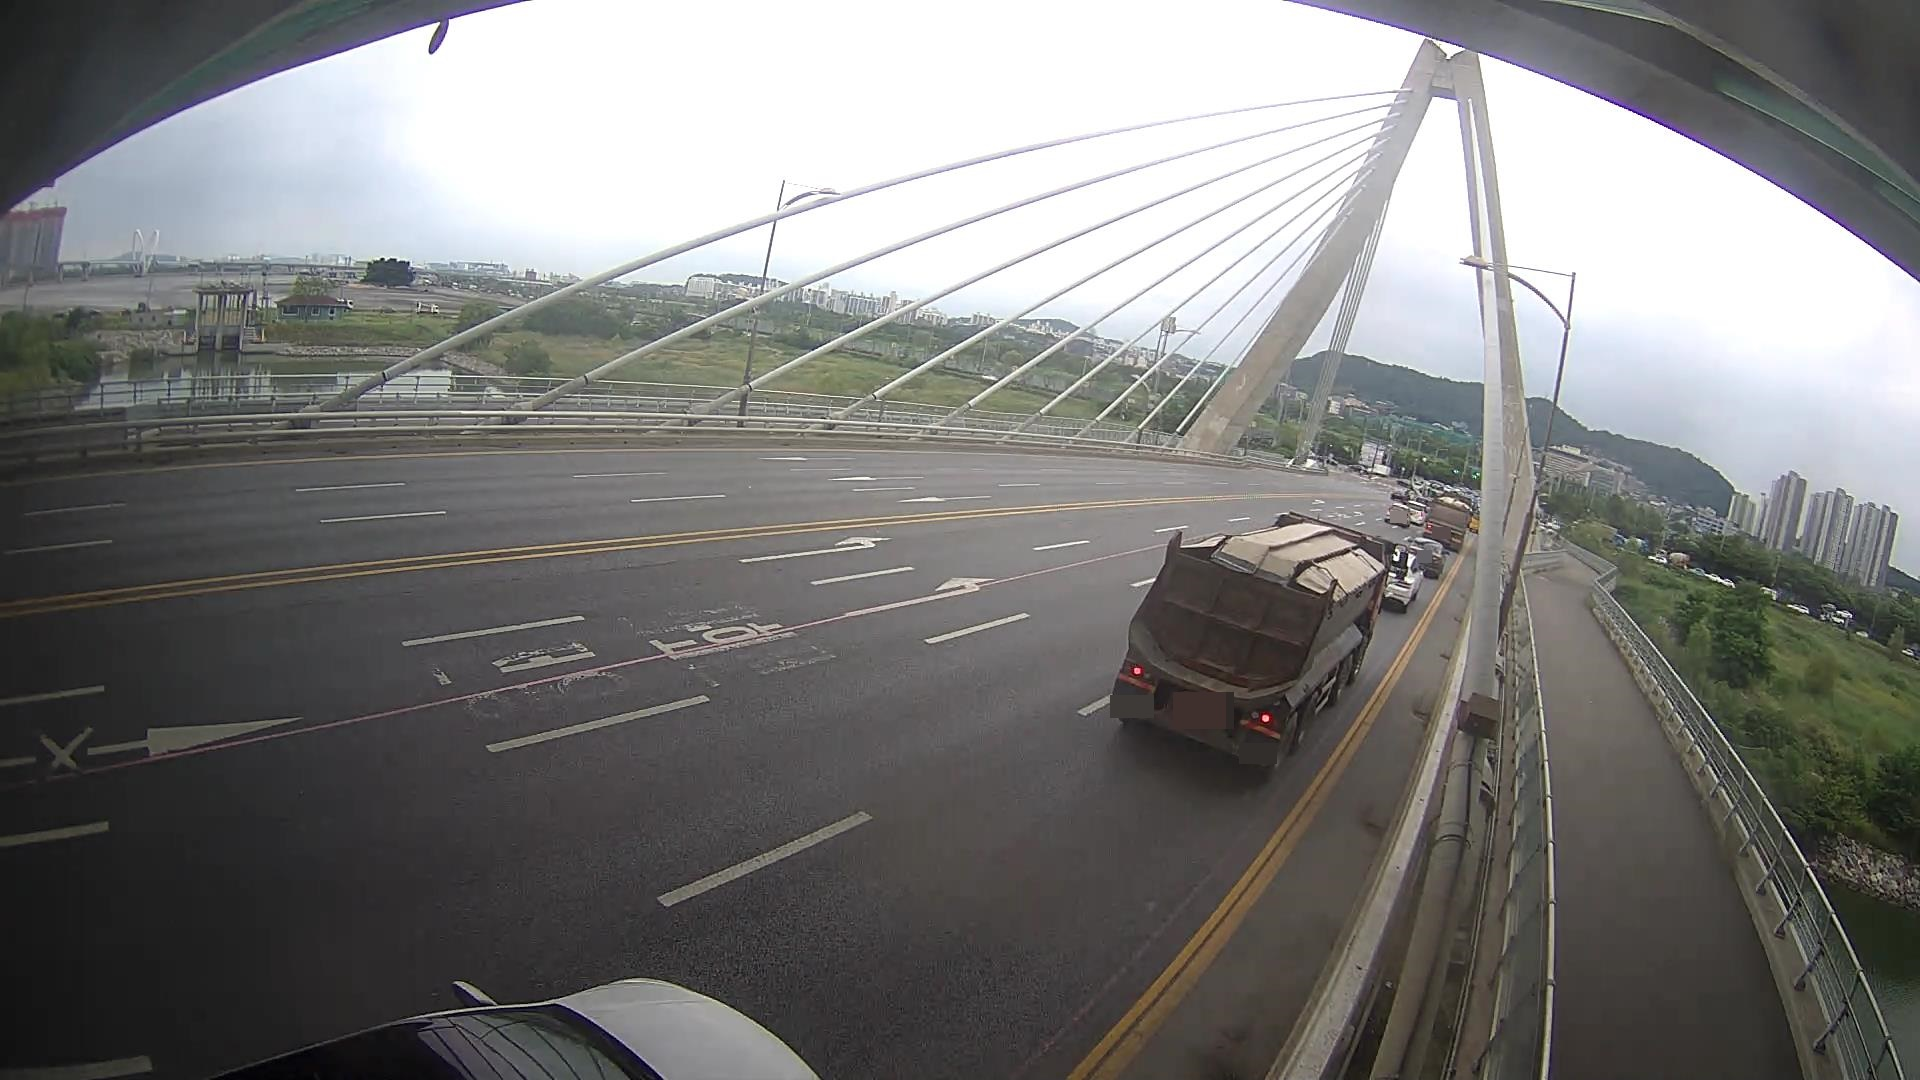정상차량: (1112, 510, 1408, 782)
